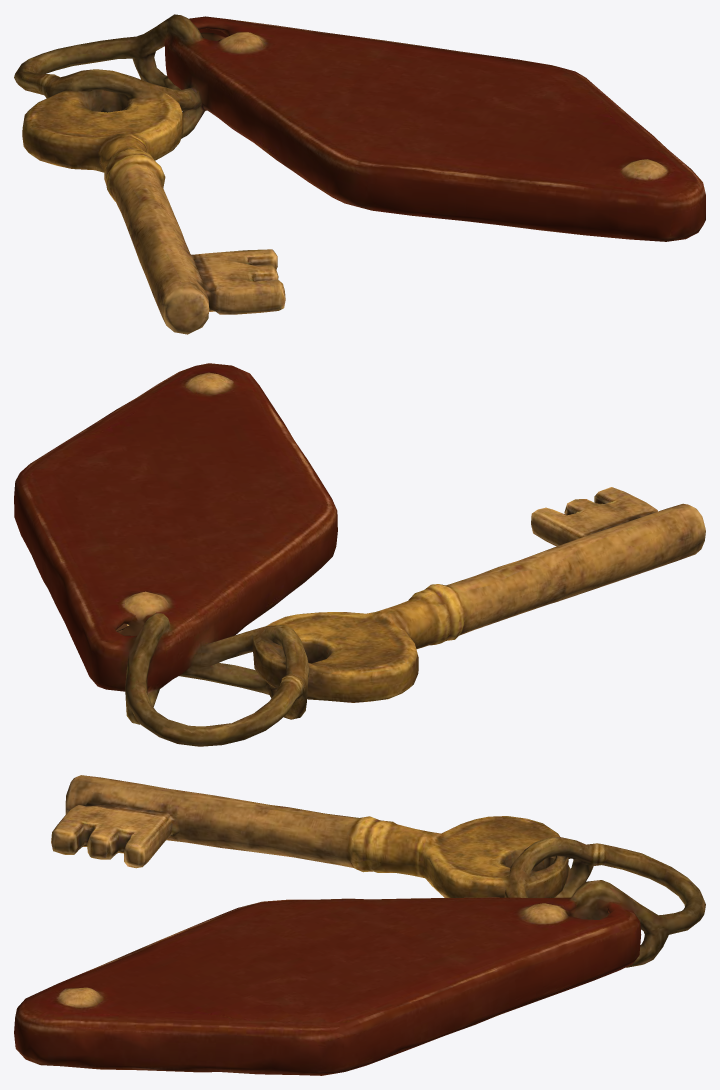
The model's file is room-key.glb.
3 renders of one model, top to bottom at view 1: azimuth 30°, elevation 25°; view 2: azimuth 150°, elevation 25°; view 3: azimuth 270°, elevation 25°, orthographic. The views are drawn at different scales.
Visible parts, largest first — view 1: Mesh_0; view 2: Mesh_0; view 3: Mesh_0.
Part boxes in pixels (x1=…): Mesh_0: x1=14, y1=14, x2=705, y2=334; Mesh_0: x1=14, y1=363, x2=705, y2=746; Mesh_0: x1=14, y1=775, x2=705, y2=1075.
Size of the model in its own units: 0.1895 by 0.03 by 0.2092.
Materials: 1 (1 with a texture image).
